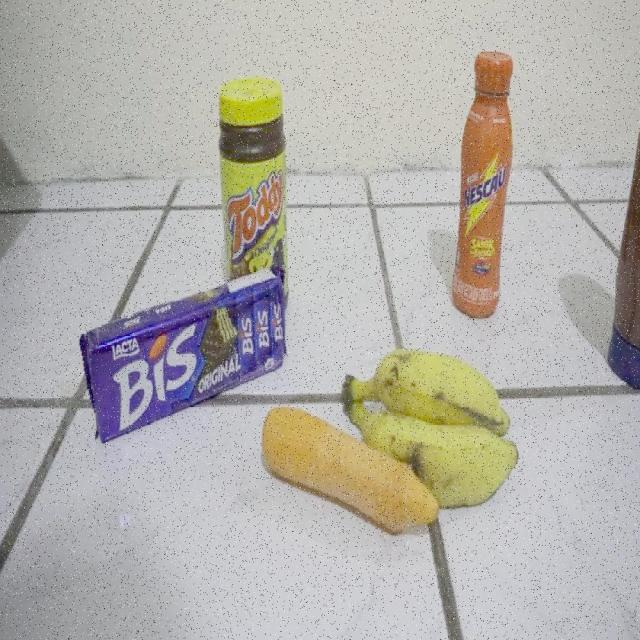Banana: (363, 342, 528, 446)
Carrot: (260, 399, 350, 524)
ChocolateMilk: (457, 47, 511, 316)
ChocolatePowder: (219, 78, 289, 271)
Ketchup: (604, 74, 640, 408)
